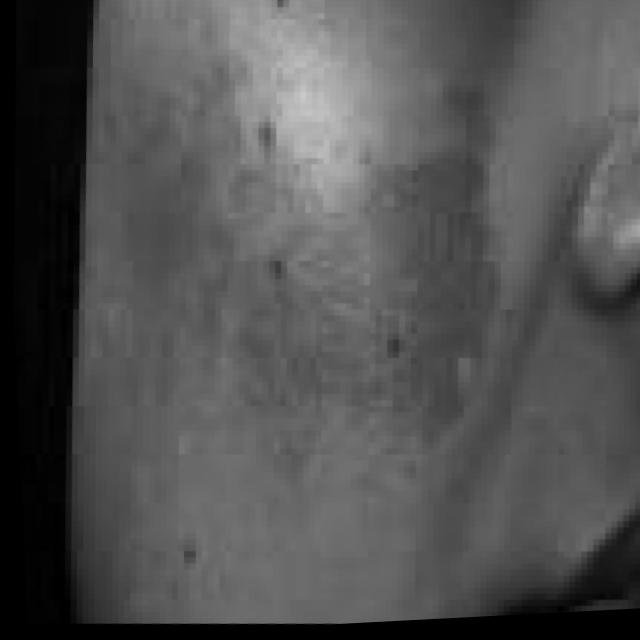Melasma: (77, 46, 517, 496)
